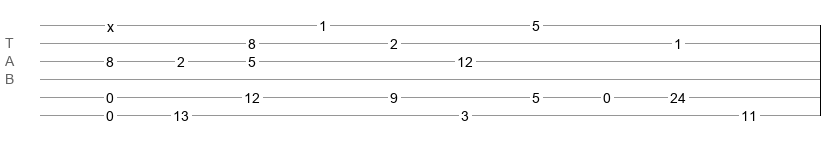0: (106, 90, 114, 100), (106, 108, 114, 118), (603, 90, 611, 100)
1: (319, 18, 327, 28), (674, 36, 682, 46)
11: (741, 108, 757, 118)
12: (244, 90, 260, 100), (457, 54, 473, 64)
13: (173, 108, 189, 118)
2: (177, 54, 185, 64), (390, 36, 398, 46)
24: (670, 90, 686, 100)
3: (461, 108, 469, 118)
5: (248, 54, 256, 64), (532, 90, 540, 100), (532, 18, 540, 28)
8: (106, 54, 114, 64), (248, 36, 256, 46)
9: (390, 90, 398, 100)
x: (107, 19, 114, 27)
